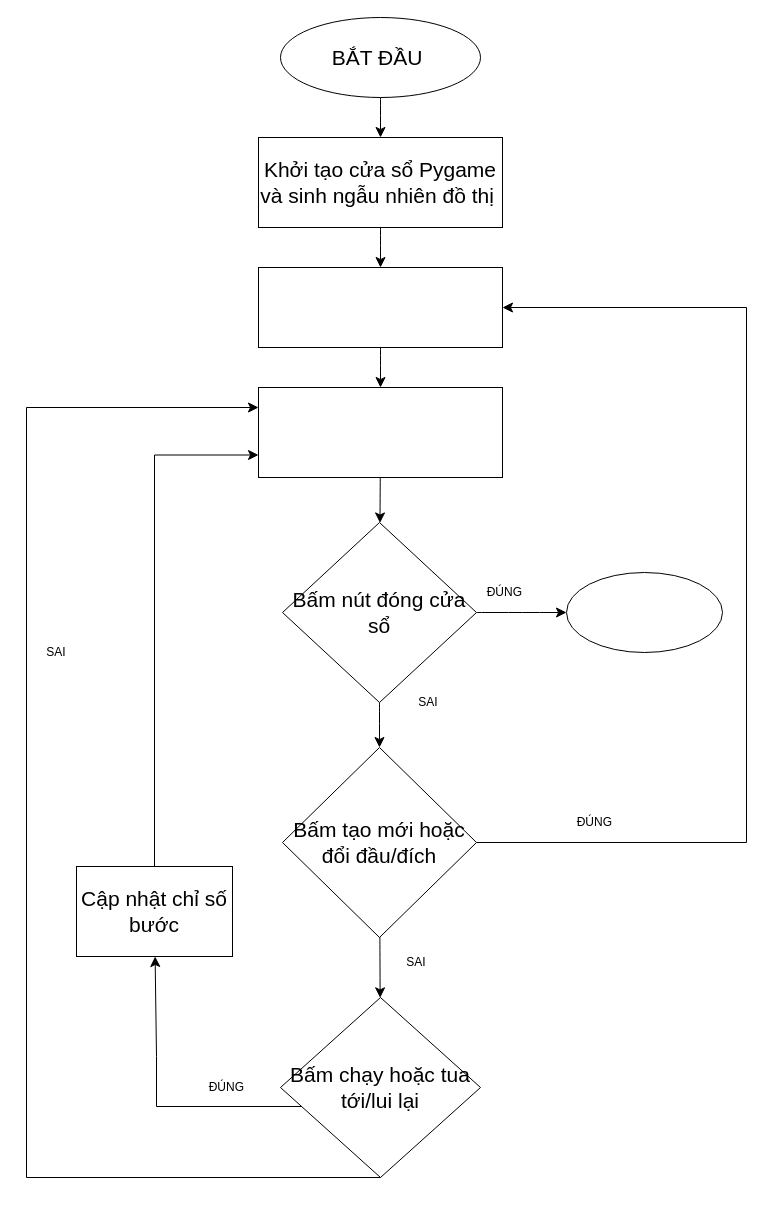
Some shapes in this 774 by 1205 pixel diagram are drawn without their labels. Here are the shapes that lost their labels. From the top down, the centre of each, then its label:
At point 380,307: "Chạy thuật toán Dijkstra và lưu toàn bộ các bước vào danh sách".
At point 380,432: "Vẽ giao diện đồ thị và bảng điều khiển theo bước".
At point 644,612: "KẾT THÚC".
